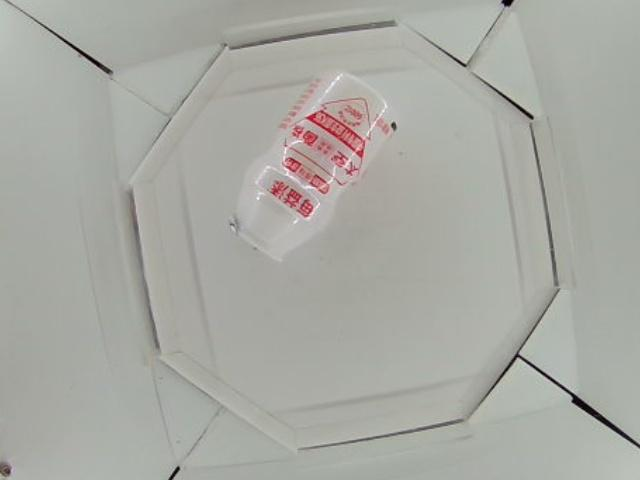Bottle: (224, 66, 402, 265)
